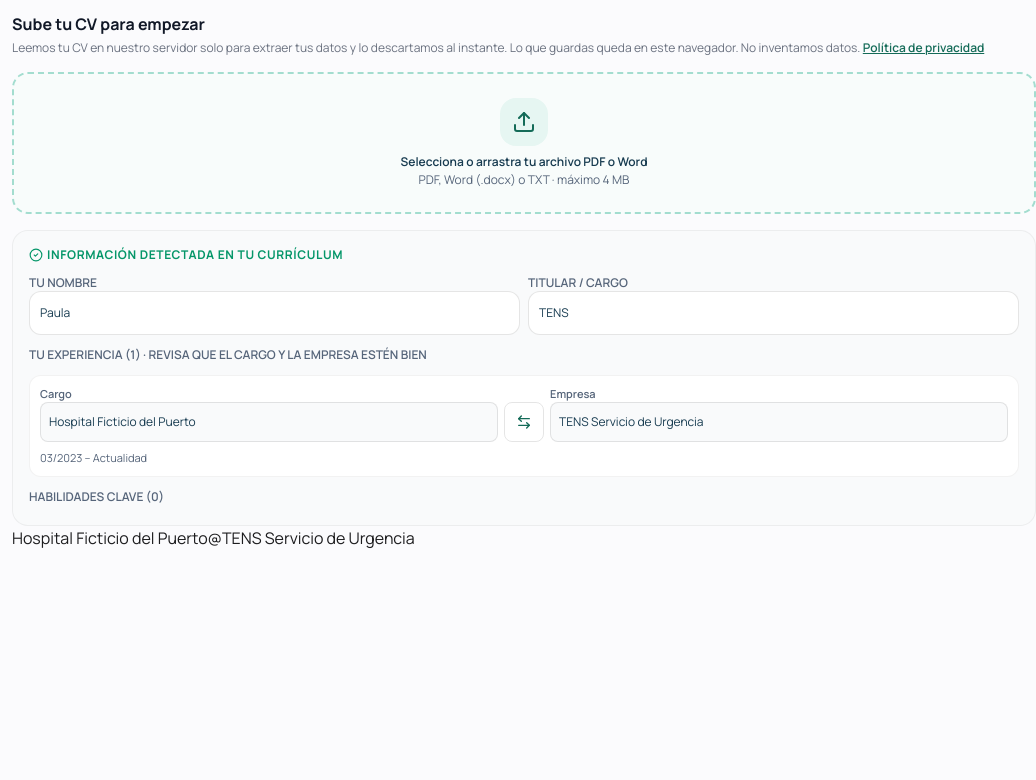
Scenario: Confirmar experiencias en la guía › intercambia cargo y empresa con un botón
This screenshot has width=1036, height=780.
Expected: the field labelled "Cargo" holds "Hospital Ficticio del Puerto", [40,402,498,442]
Step 1. Click the button named "Intercambiar cargo y empresa" → [524, 422], box [504,402,544,442]
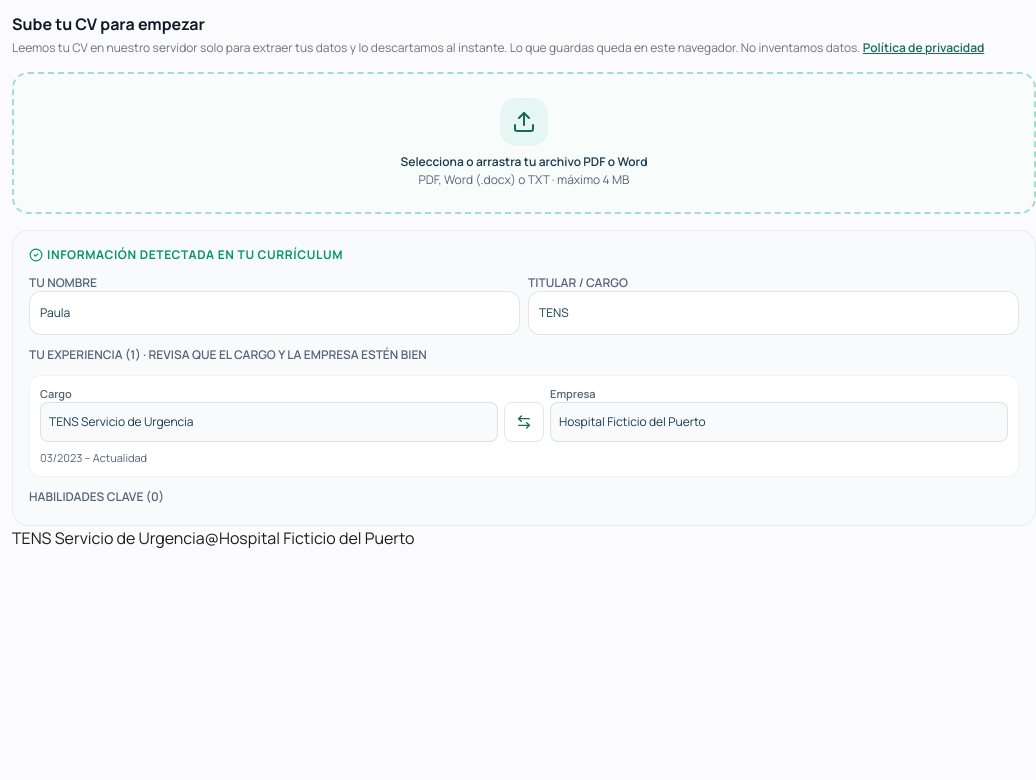
Expected: the text with test id "state" reads "TENS Servicio de Urgencia@Hospital Ficticio del Puerto", [12,527,415,549]
